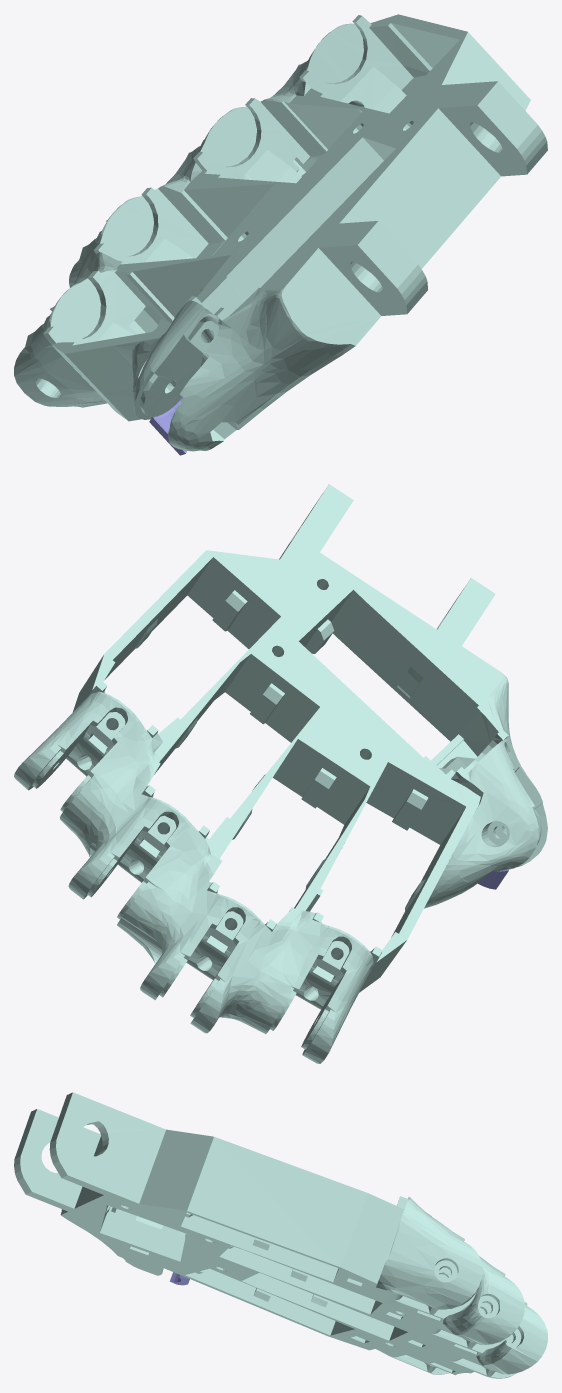
File: right_wrist_z_link_visual_3.obj.balanced.glb
3 renders of one model, top to bottom at view 1: azimuth 30°, elevation 25°; view 2: azimuth 150°, elevation 25°; view 3: azimuth 270°, elevation 25°, orthographic. The views are drawn at different scales.
Bounding box in the file's own units: 0.9967 × 0.9879 × 1.31.
